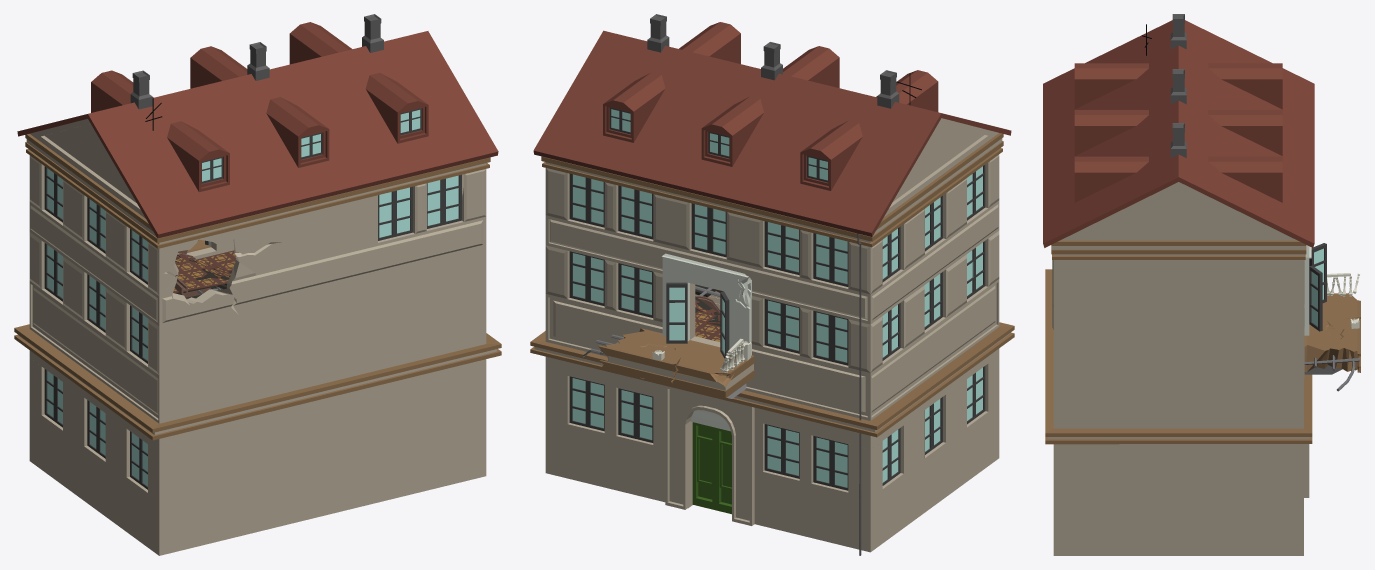
File: Building_09.fbx
3 views of the same model, side by side, from view 1: azimuth 30°, elevation 25°; view 2: azimuth 150°, elevation 25°; view 3: azimuth 270°, elevation 25° (orthographic). The views are drawn at different scales.
Visible parts, largest first — view 1: Cube.043; view 2: Cube.043; view 3: Cube.043.
Boxes of the visible parts, x1,y1,x2,y2 form: Cube.043: (14, 14, 501, 555); Cube.043: (530, 14, 1014, 555); Cube.043: (1043, 14, 1360, 555).
Bounding box in the file's own units: 1942 × 2270 × 1589.
